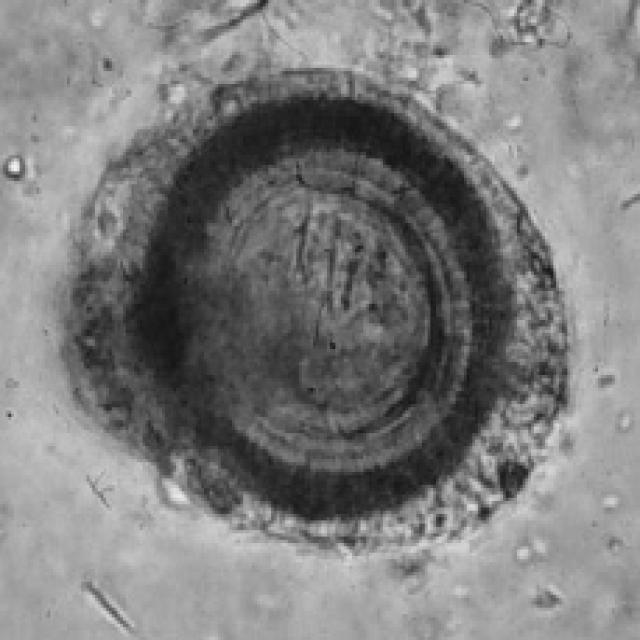Taenia Sp: (122, 81, 507, 527)
